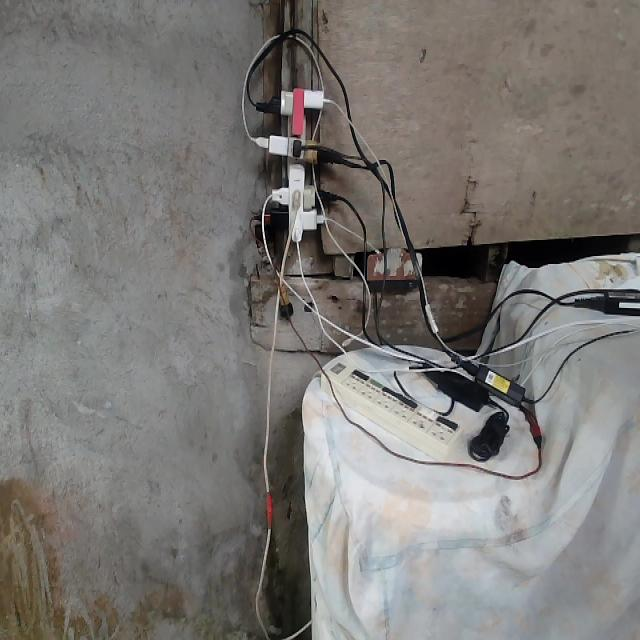-: (257, 87, 330, 244)
